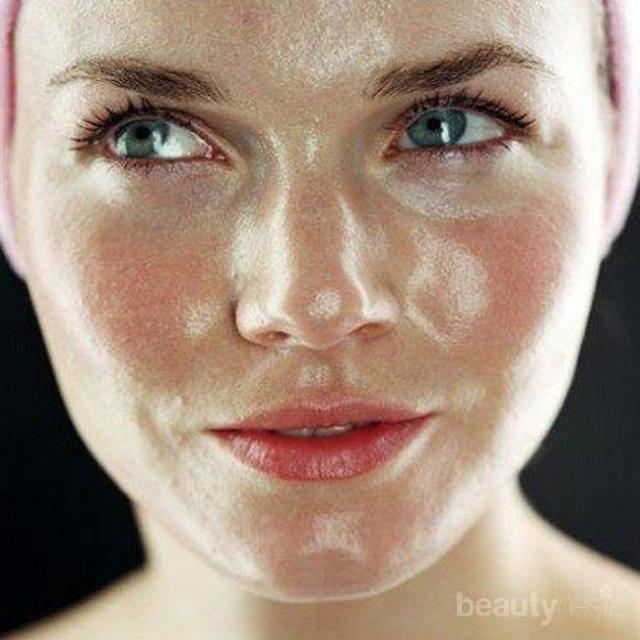oily: (225, 130, 299, 338), (404, 219, 492, 358), (262, 0, 396, 87), (332, 187, 404, 328), (372, 163, 516, 225), (298, 512, 370, 568), (416, 378, 485, 418), (146, 386, 188, 440), (86, 164, 132, 209), (184, 302, 220, 340), (312, 288, 340, 324), (306, 130, 320, 168)
